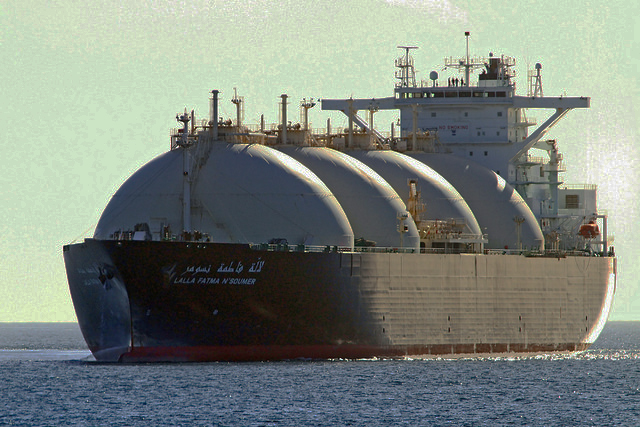LNG_ship: (59, 30, 618, 361)
